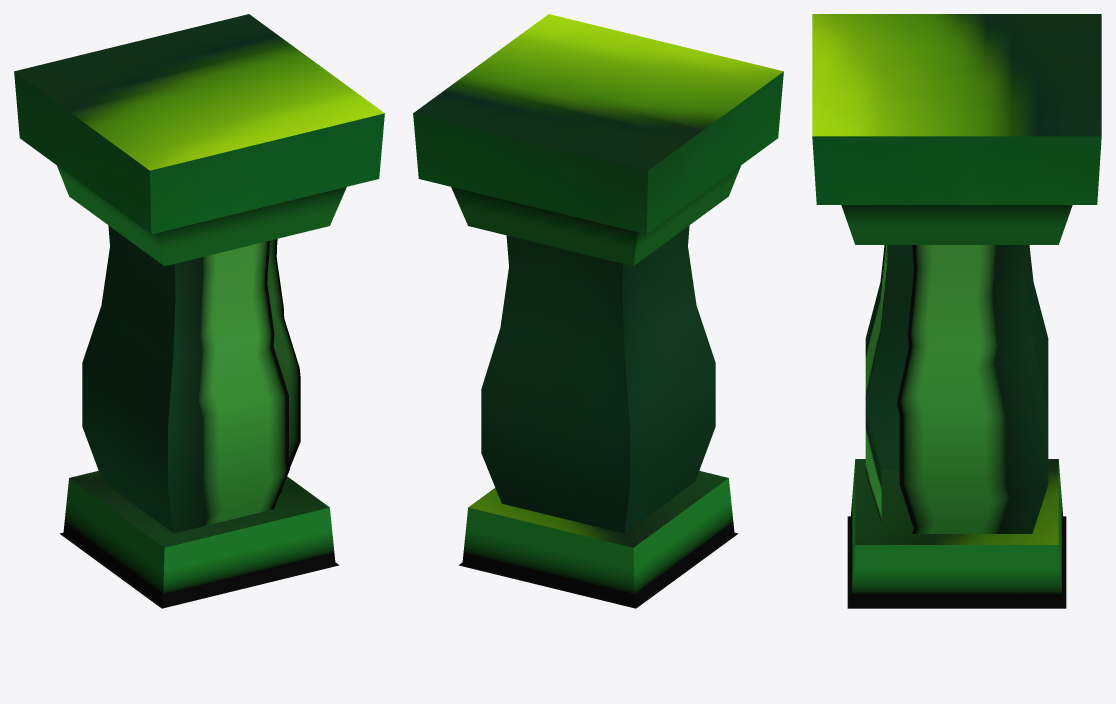
File: sn_shengdi_smallpost_001.FBX
3 views of the same model, side by side, from view 1: azimuth 30°, elevation 25°; view 2: azimuth 150°, elevation 25°; view 3: azimuth 270°, elevation 25° (orthographic). The views are drawn at different scales.
Parts seen in each view (by area): view 1: sn_shengdi_smallpost_001; view 2: sn_shengdi_smallpost_001; view 3: sn_shengdi_smallpost_001.
Part boxes in pixels (x1,y1,x2,y2): sn_shengdi_smallpost_001: [14, 14, 384, 608]; sn_shengdi_smallpost_001: [413, 14, 783, 608]; sn_shengdi_smallpost_001: [812, 14, 1101, 608].
Bounding box in the file's own units: 63.5 × 63.5 × 134.
